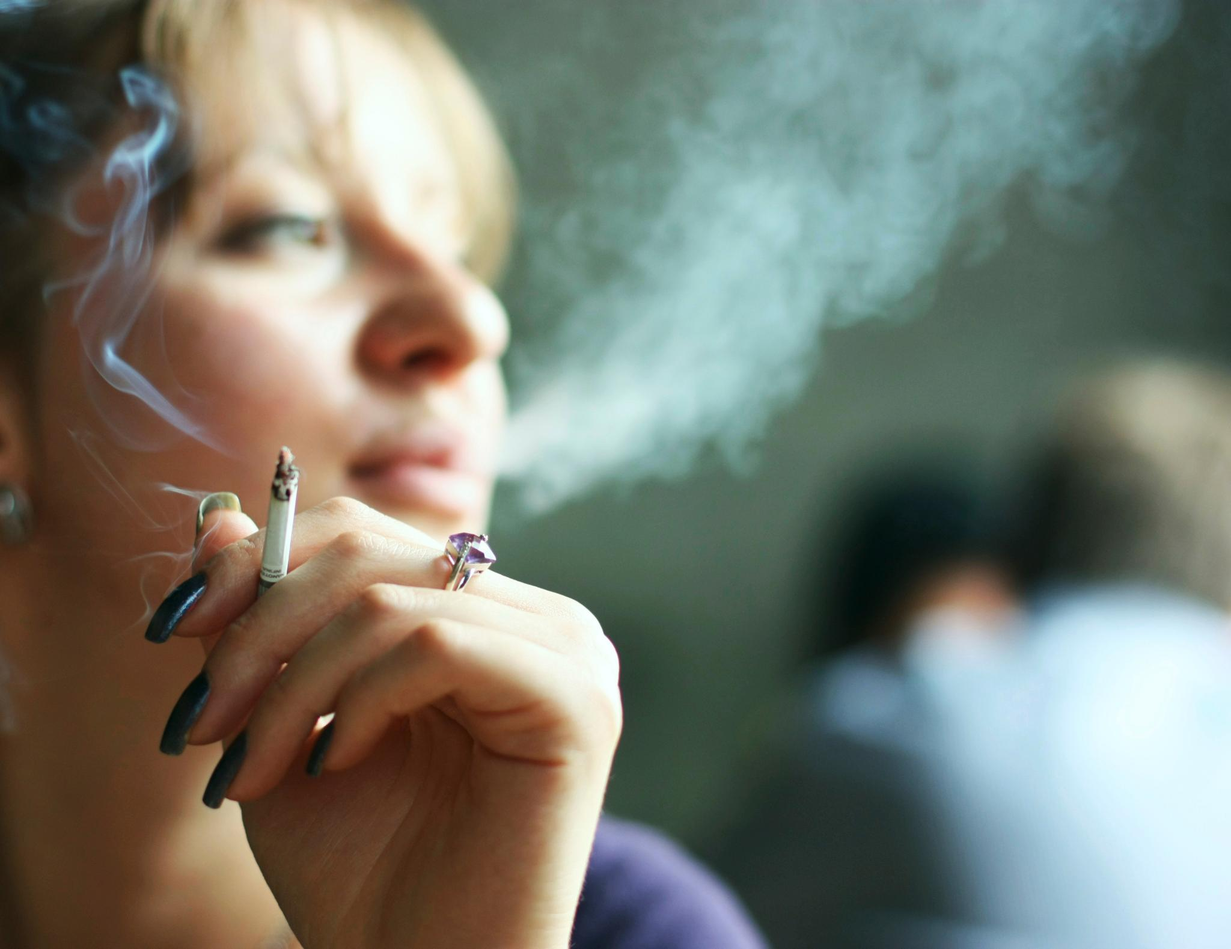cigarette: (258, 447, 299, 597)
